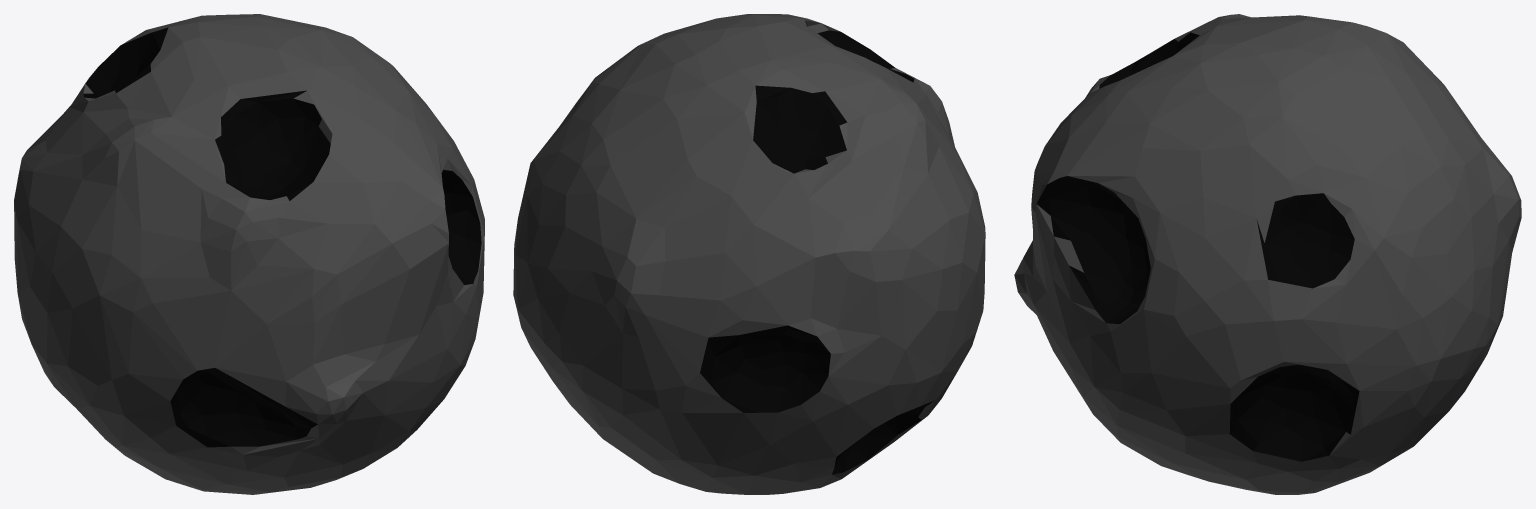
The model's file is Planet7.glb.
3 views of the same model, side by side, from view 1: azimuth 30°, elevation 25°; view 2: azimuth 150°, elevation 25°; view 3: azimuth 270°, elevation 25° (orthographic).
Parts seen in each view (by area): view 1: Planet17; view 2: Planet17; view 3: Planet17.
Boxes of the visible parts, x1=… form: Planet17: x1=14, y1=14, x2=484, y2=494; Planet17: x1=513, y1=14, x2=985, y2=494; Planet17: x1=1014, y1=14, x2=1521, y2=494.
Size of the model in its own units: 10.52 by 10.62 by 11.23.
Materials: 1 (1 with a texture image).
